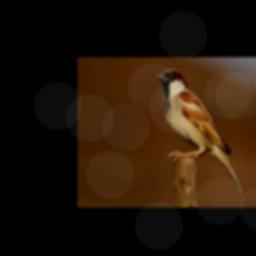Sparrow: (156, 68, 242, 194)
